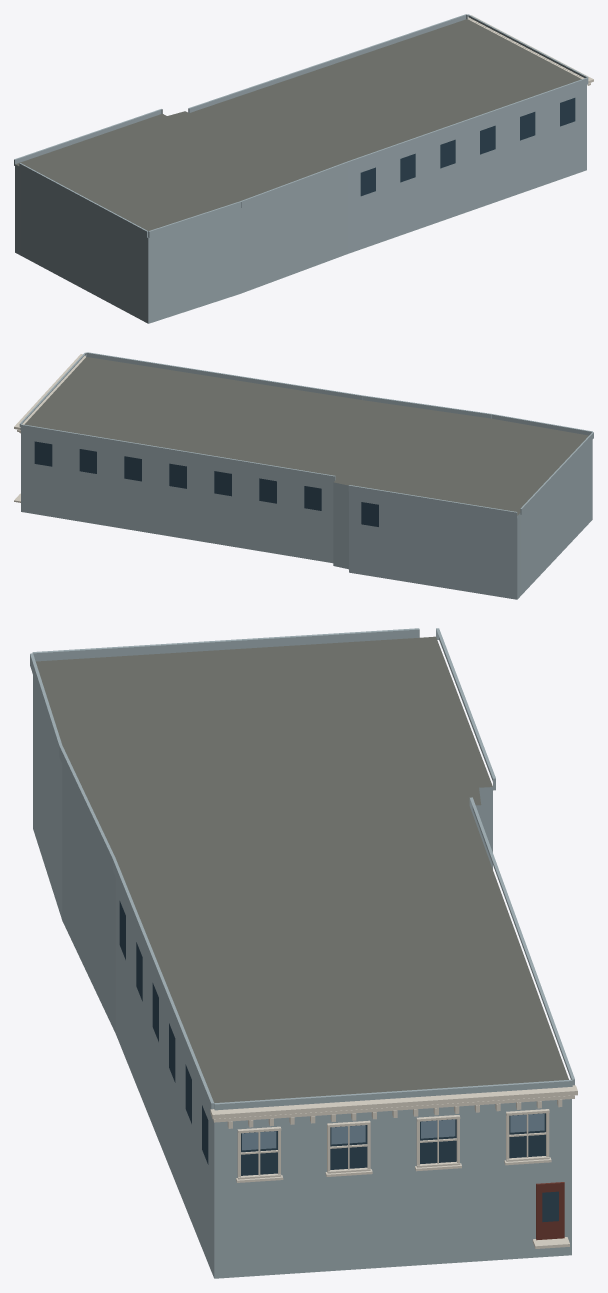
3 views of the same model, one above another, from view 1: azimuth 30°, elevation 25°; view 2: azimuth 150°, elevation 25°; view 3: azimuth 270°, elevation 25° (orthographic). The views are drawn at different scales.
Visible parts, largest first — view 1: Footprint 0 / surface 2, Footprint 0 / surface 1, Facade bay volumes, Inset glazing, Cornices and window frames; view 2: Footprint 0 / surface 2, Footprint 0 / surface 1, Facade bay volumes, Inset glazing, Cornices and window frames; view 3: Footprint 0 / surface 1, Footprint 0 / surface 2, Facade bay volumes, Cornices and window frames, Inset glazing, Sky reflection panels, Storefronts and doors.
Part boxes in pixels (bbox=[...]): Footprint 0 / surface 2: bbox=[15, 85, 586, 323]; Footprint 0 / surface 1: bbox=[15, 19, 581, 230]; Facade bay volumes: bbox=[14, 14, 588, 237]; Inset glazing: bbox=[360, 98, 575, 196]; Cornices and window frames: bbox=[467, 15, 593, 85]; Footprint 0 / surface 2: bbox=[21, 430, 592, 599]; Footprint 0 / surface 1: bbox=[24, 357, 588, 515]; Facade bay volumes: bbox=[19, 352, 593, 518]; Inset glazing: bbox=[34, 441, 378, 526]; Cornices and window frames: bbox=[14, 354, 85, 502]; Footprint 0 / surface 1: bbox=[35, 636, 568, 1102]; Footprint 0 / surface 2: bbox=[33, 675, 571, 1278]; Facade bay volumes: bbox=[30, 628, 574, 1112]; Cornices and window frames: bbox=[210, 1085, 577, 1248]; Inset glazing: bbox=[119, 901, 558, 1222]; Sky reflection panels: bbox=[242, 1113, 544, 1150]; Storefronts and doors: bbox=[536, 1182, 564, 1240].
Bounding box in the file's own units: 43.67 × 7.44 × 21.03.
